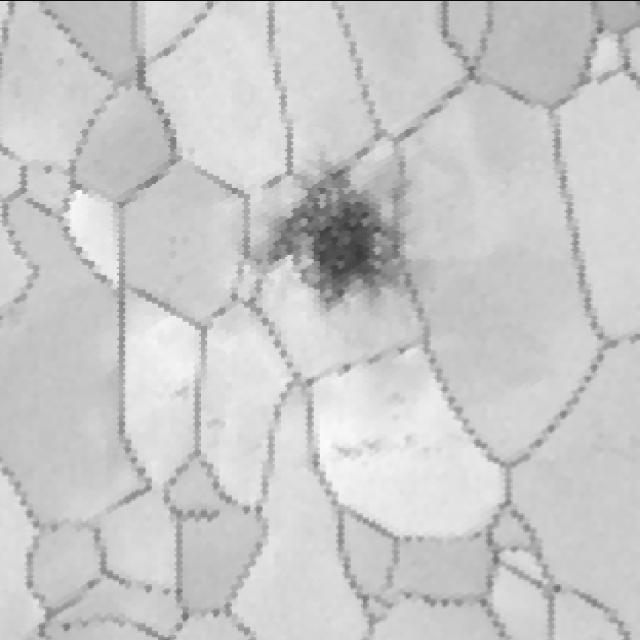good_void: (245, 146, 434, 325), (329, 360, 440, 471), (173, 379, 192, 401), (206, 413, 231, 429)
